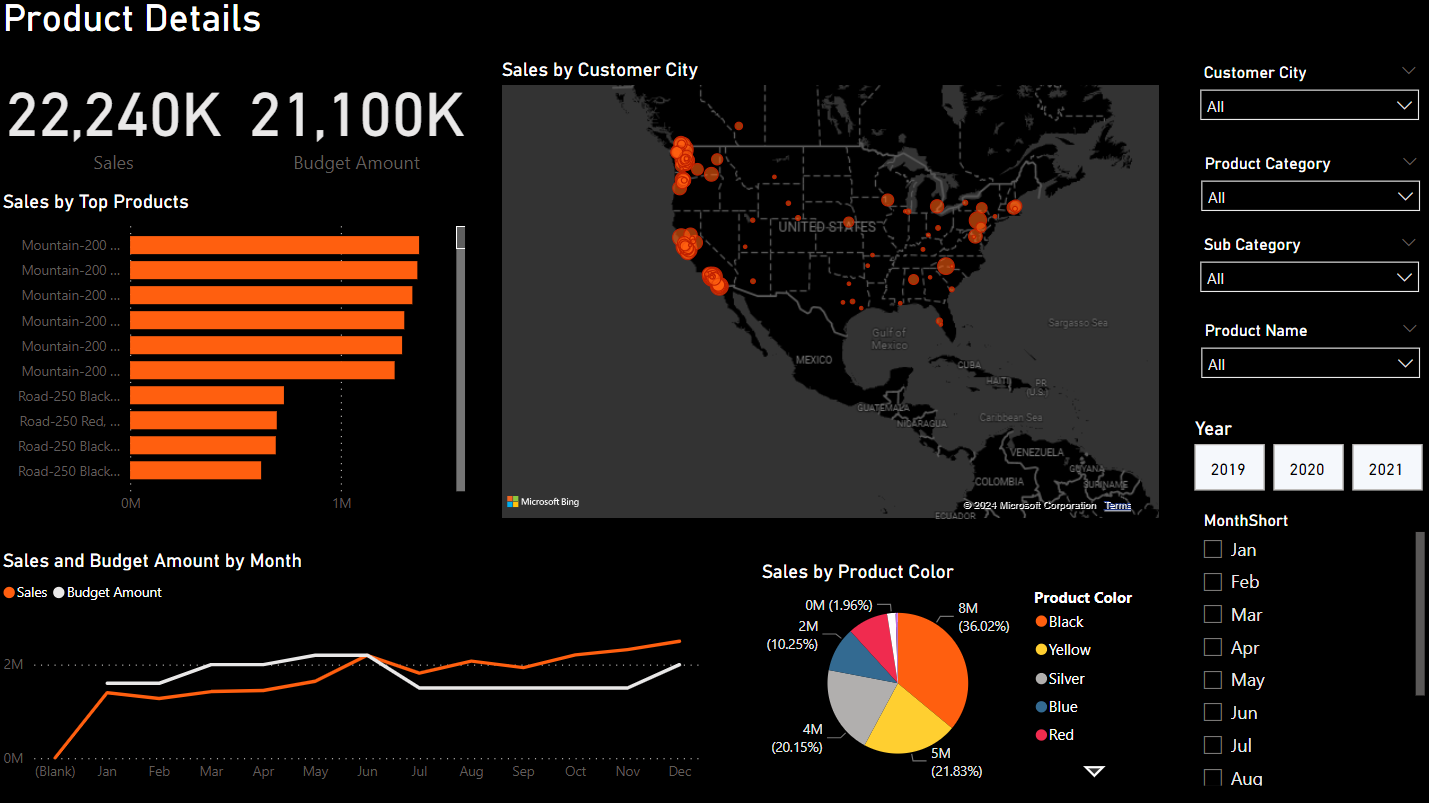

The page's visual inventory and layout, read from the dashboard file:
{"tool":"powerbi","page":{"name":"Product Details","canvas":[1280,720],"ordinal":2},"visuals":[{"type":"textbox","title":"Product Details","box":[0,0,1280,46.1],"z":0},{"type":"slicer","fields":{"Values":["DIM_Customer.Customer City"]},"box":[1056.9,55,213.7,80.7],"z":1000},{"type":"slicer","fields":{"Values":["DIM_Product.Product Category"]},"box":[1057.8,135.7,213.7,71.8],"z":2000},{"type":"slicer","fields":{"Values":["DIM_Product.Sub Category"]},"box":[1056.9,207.5,213.7,74.5],"z":3000},{"type":"slicer","fields":{"Values":["DIM_Product.Product Name"]},"box":[1057.8,283.7,213.7,76.3],"z":4000},{"type":"lineChart","title":"Sales and Budget Amount by Month","fields":{"Y":["Key Measures.Sales","Key Measures.Budget Amount"],"Category":["DIM_Calender.MonthShort"]},"box":[0,490.3,628.7,215.5],"z":5000},{"type":"advancedSlicerVisual","fields":{"Values":["DIM_Calender.Year"]},"box":[1056.9,373.3,213.7,70],"z":6000},{"type":"slicer","title":"Month","fields":{"Values":["DIM_Calender.MonthShort"]},"box":[1056.9,452.2,213.7,252.7],"z":7000},{"type":"map","fields":{"Category":["DIM_Customer.Customer City"],"Size":["Key Measures.Sales"]},"box":[442.5,55,593.2,413.2],"z":8000},{"type":"card","fields":{"Values":["Key Measures.Sales"]},"box":[0,46.1,206.6,125.9],"z":9000},{"type":"card","fields":{"Values":["Key Measures.Budget Amount"]},"box":[217.2,46.1,203.1,125.9],"z":10000},{"type":"pieChart","fields":{"Y":["Key Measures.Sales"],"Category":["DIM_Product.Product Color"]},"box":[673,500.1,355.6,199.5],"z":11000},{"type":"clusteredBarChart","title":"Sales by Top Products","fields":{"Y":["Key Measures.Sales"],"Category":["DIM_Product.Product Name"]},"box":[0,172,420.3,296.2],"z":12000}]}

Visuals, with their boxes in screenshot pixels (x1, y1, x2, y2), scaled from the page's 1280x720 canvas onto the 1429x803 screenshot:
"Product Details" textbox: BBox(0, 0, 1428, 51)
slicer - DIM_Customer.Customer City: BBox(1180, 61, 1419, 151)
slicer - DIM_Product.Product Category: BBox(1181, 151, 1420, 231)
slicer - DIM_Product.Sub Category: BBox(1180, 231, 1419, 315)
slicer - DIM_Product.Product Name: BBox(1181, 316, 1420, 402)
"Sales and Budget Amount by Month" lineChart: BBox(0, 547, 702, 787)
advancedSlicerVisual - DIM_Calender.Year: BBox(1180, 416, 1419, 494)
"Month" slicer: BBox(1180, 504, 1419, 786)
map - DIM_Customer.Customer City x Key Measures.Sales: BBox(494, 61, 1156, 522)
card - Key Measures.Sales: BBox(0, 51, 231, 192)
card - Key Measures.Budget Amount: BBox(242, 51, 469, 192)
pieChart - Key Measures.Sales x DIM_Product.Product Color: BBox(751, 558, 1148, 780)
"Sales by Top Products" clusteredBarChart: BBox(0, 192, 469, 522)
